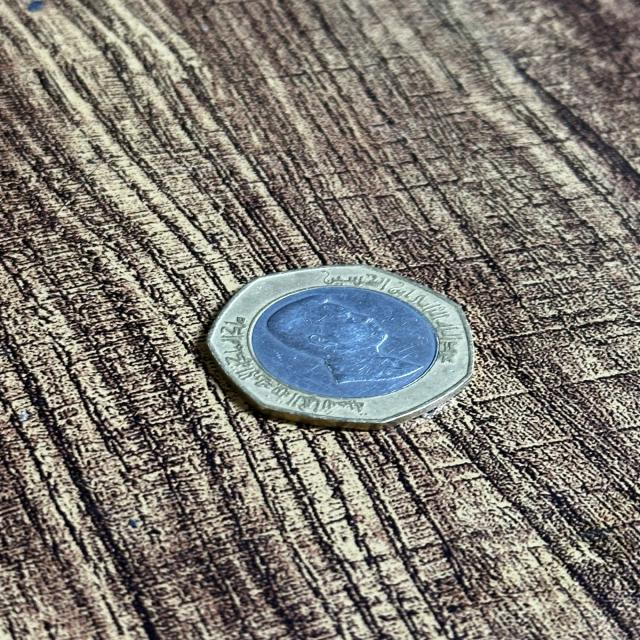50-coins: (206, 265, 475, 430)
